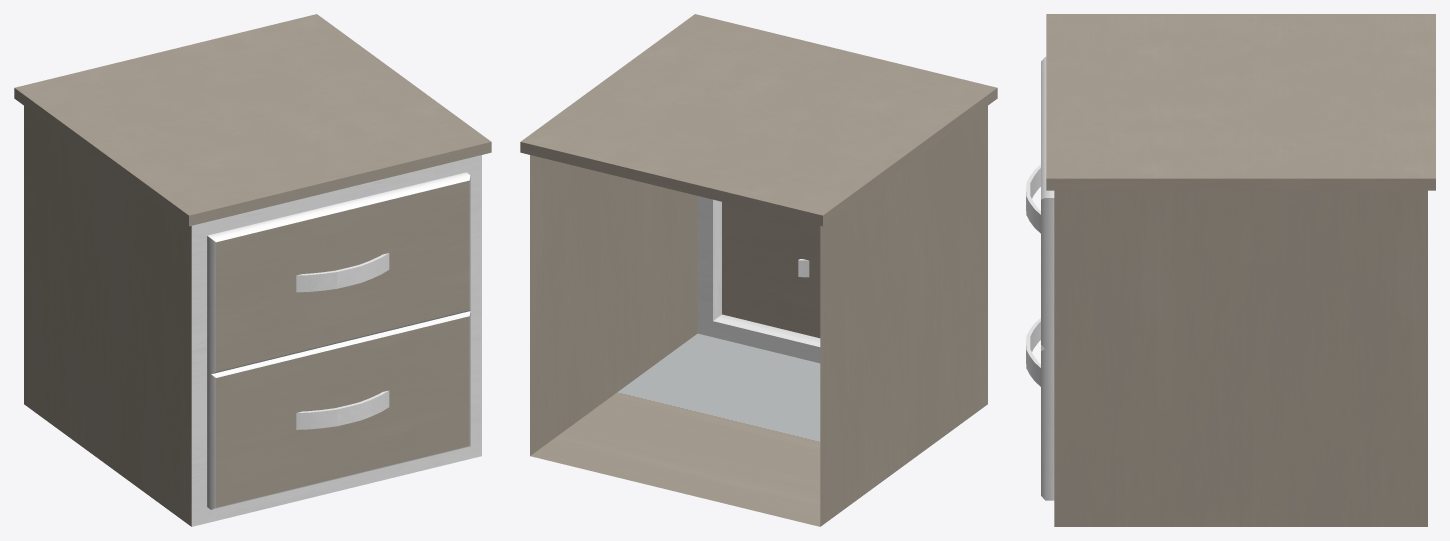
The model's file is SideTable.fbx.
The picture shows the model from 3 angles, left to right: view 1: azimuth 30°, elevation 25°; view 2: azimuth 150°, elevation 25°; view 3: azimuth 270°, elevation 25°; orthographic projection. The views are drawn at different scales.
Visible parts, largest first — view 1: SideTable; view 2: SideTable; view 3: SideTable.
Part boxes in pixels (left/top/right/bottom): SideTable: left=14, top=14, right=491, bottom=526; SideTable: left=520, top=14, right=997, bottom=526; SideTable: left=1026, top=14, right=1435, bottom=526.
Size of the model in its own units: 75.24 by 74.96 by 79.17.
